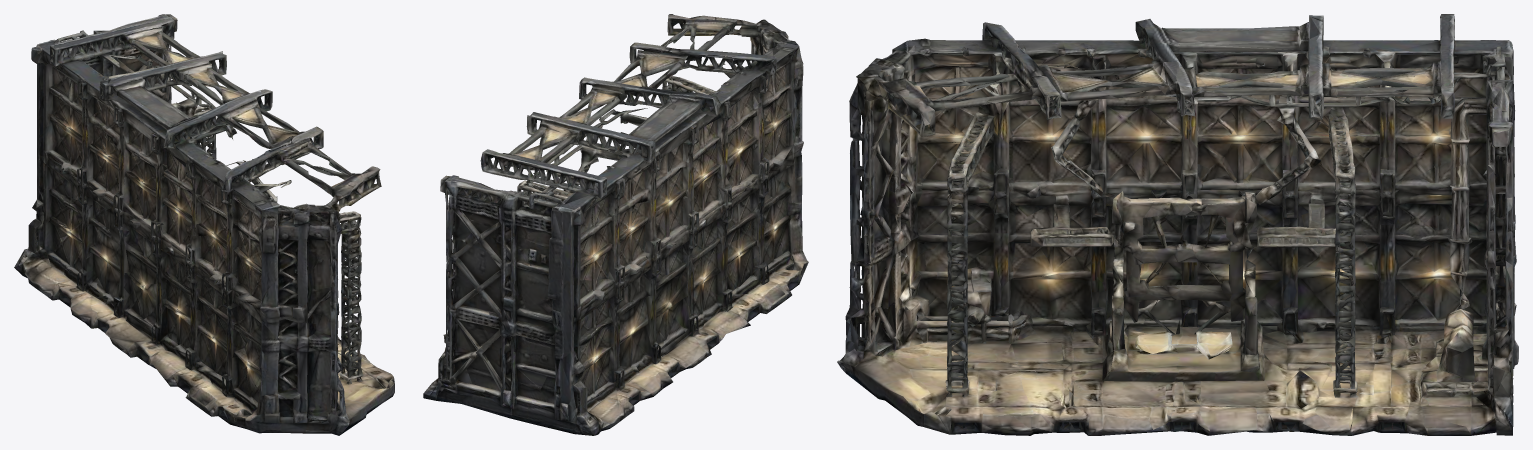
The model's file is hangar_gantry.glb.
3 views of the same model, side by side, from view 1: azimuth 30°, elevation 25°; view 2: azimuth 150°, elevation 25°; view 3: azimuth 270°, elevation 25° (orthographic). The views are drawn at different scales.
Visible parts, largest first — view 1: hangar_gantry; view 2: hangar_gantry; view 3: hangar_gantry.
Boxes of the visible parts, box(x1,y1,x2,y2) form: hangar_gantry: box(14, 14, 394, 435); hangar_gantry: box(423, 14, 808, 435); hangar_gantry: box(837, 14, 1518, 435).
Size of the model in its own units: 0.3821 by 0.5068 by 0.9773.
Materials: 1 (1 with a texture image).
